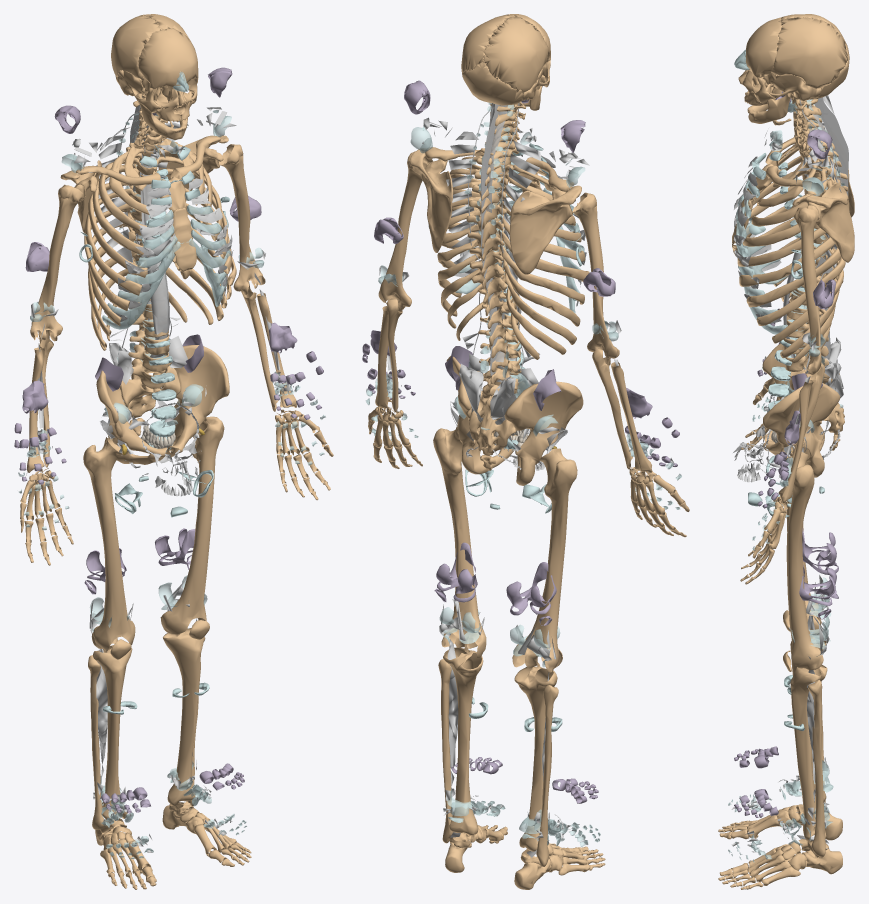
The model's file is arthrology.glb.
The picture shows the model from 3 angles, left to right: view 1: azimuth 30°, elevation 25°; view 2: azimuth 150°, elevation 25°; view 3: azimuth 270°, elevation 25°; orthographic projection. The views are drawn at different scales.
Visible parts, largest first — view 1: Object_9, Object_42, Object_57, Object_4, Object_50, Object_86; view 2: Object_9, Object_57, Object_4, Object_42, Object_50; view 3: Object_9, Object_57, Object_42, Object_4, Object_50, Object_86.
Part boxes in pixels (bbox=[...]): Object_9: bbox=[20, 14, 333, 889]; Object_42: bbox=[18, 71, 325, 859]; Object_57: bbox=[25, 96, 293, 852]; Object_4: bbox=[14, 67, 323, 813]; Object_50: bbox=[79, 169, 229, 714]; Object_86: bbox=[117, 402, 201, 496]; Object_9: bbox=[368, 14, 689, 889]; Object_57: bbox=[379, 103, 674, 857]; Object_4: bbox=[362, 80, 679, 803]; Object_42: bbox=[365, 102, 682, 846]; Object_50: bbox=[428, 162, 583, 731]; Object_9: bbox=[718, 14, 854, 889]; Object_57: bbox=[731, 95, 848, 852]; Object_42: bbox=[728, 49, 844, 862]; Object_4: bbox=[734, 91, 838, 817]; Object_50: bbox=[748, 162, 824, 731]; Object_86: bbox=[733, 395, 840, 482].
Bounding box in the file's own units: 21924 × 55578 × 8196.
